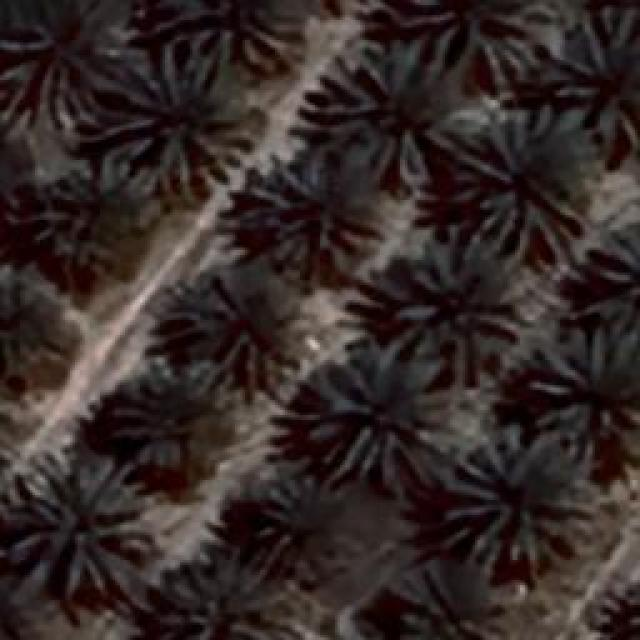PalmTree: (70, 88, 291, 522), (300, 37, 482, 185), (292, 340, 450, 490), (87, 58, 255, 188), (438, 430, 592, 568), (10, 452, 155, 592), (455, 107, 583, 260), (152, 280, 308, 400), (155, 544, 290, 638), (550, 10, 638, 140), (262, 175, 370, 273), (115, 382, 217, 482), (402, 0, 538, 71), (404, 268, 502, 362), (159, 0, 302, 62), (542, 339, 640, 429), (397, 560, 505, 638), (0, 0, 78, 108), (33, 120, 70, 322), (15, 180, 105, 262), (584, 222, 638, 336), (606, 573, 640, 640), (1, 578, 34, 640), (620, 566, 640, 640)
